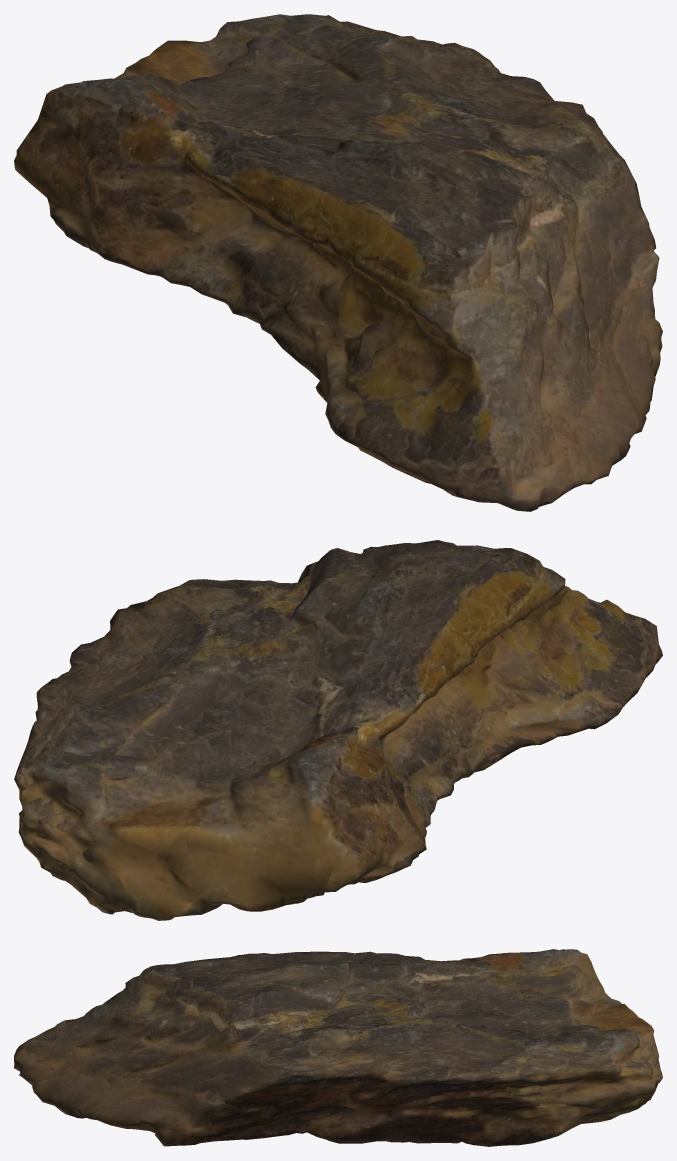
File: rock-09.glb
3 renders of one model, top to bottom at view 1: azimuth 30°, elevation 25°; view 2: azimuth 150°, elevation 25°; view 3: azimuth 270°, elevation 25°, orthographic. The views are drawn at different scales.
Parts seen in each view (by area): view 1: rock_09_LOD0; view 2: rock_09_LOD0; view 3: rock_09_LOD0.
Boxes of the visible parts, x1,y1,x2,y2 form: rock_09_LOD0: (14, 14, 662, 511); rock_09_LOD0: (14, 540, 662, 920); rock_09_LOD0: (14, 949, 662, 1146).
Bounding box in the file's own units: 0.074 × 0.0329 × 0.1446.
1 material, 1 textured.
